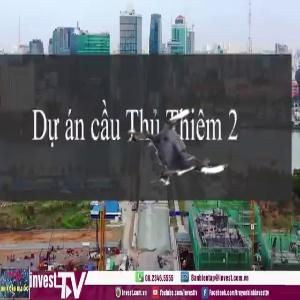drone: (131, 105, 224, 198)
